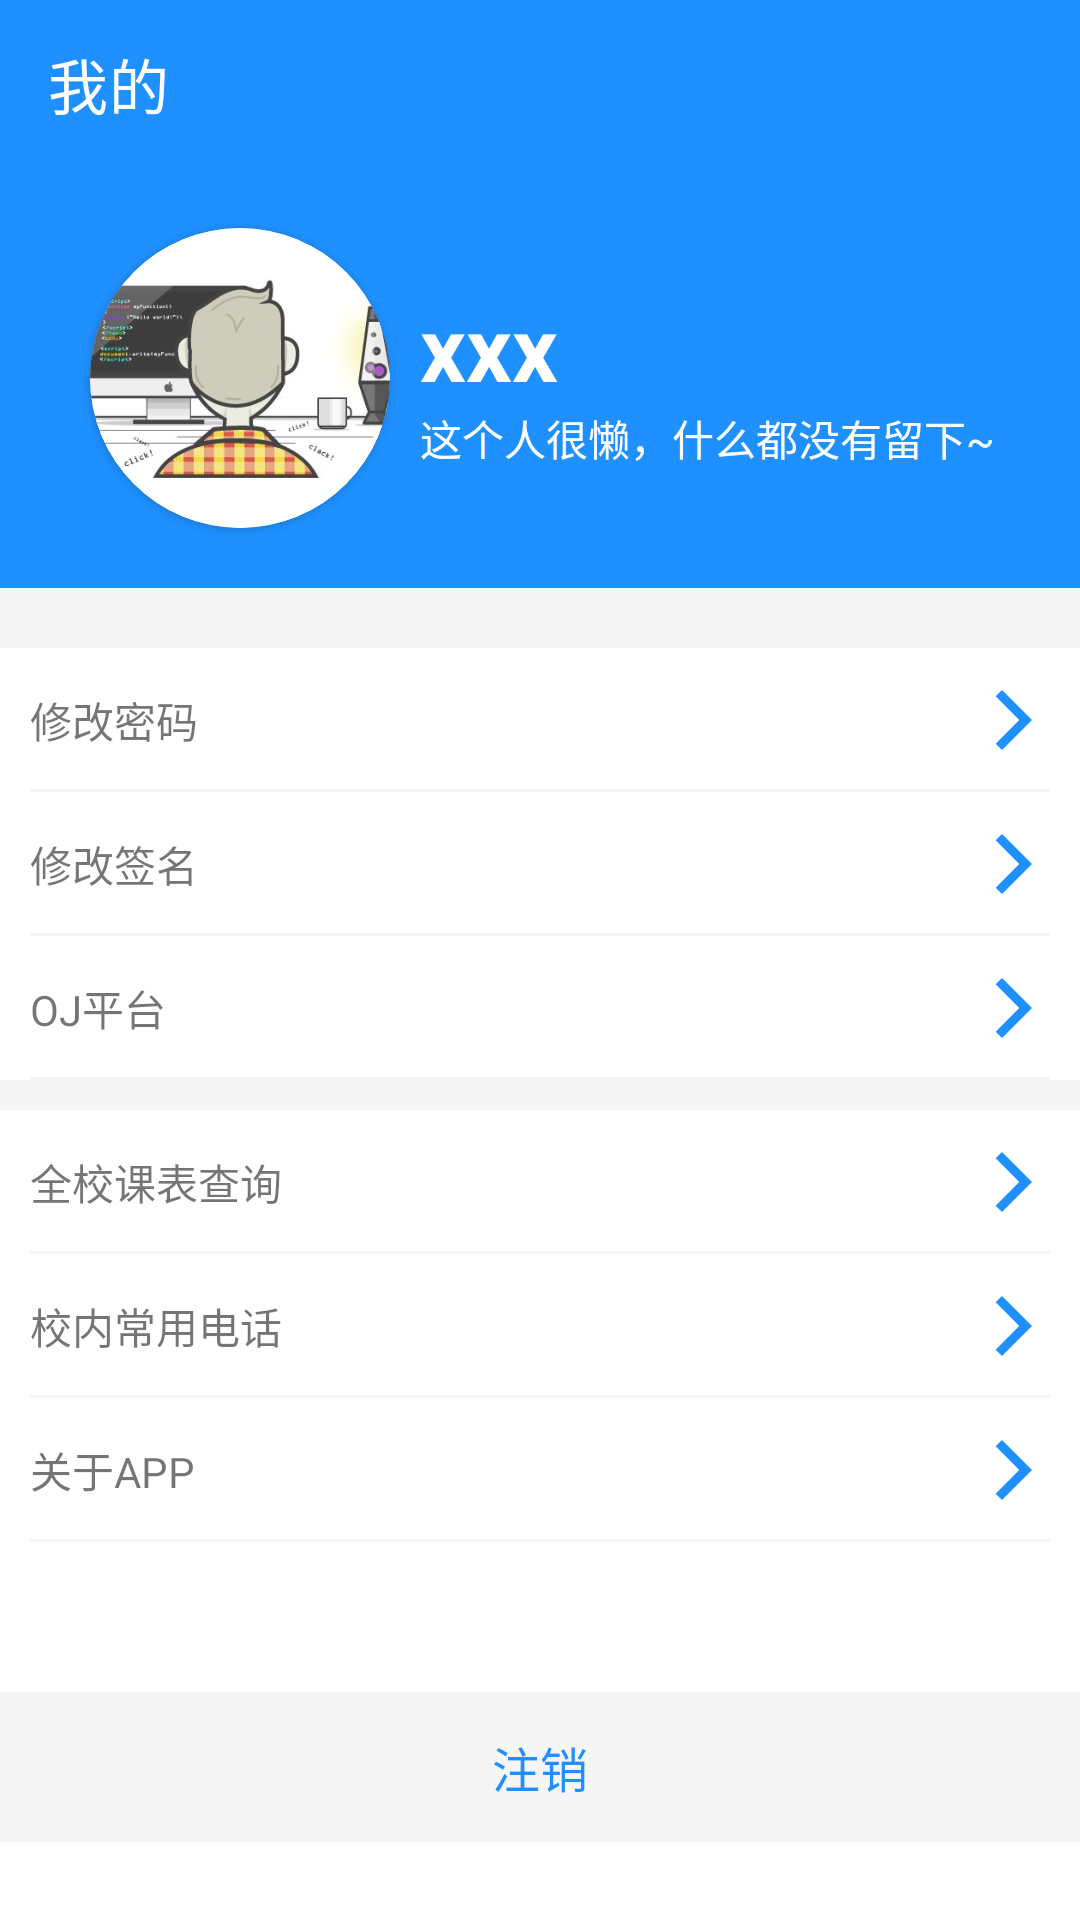

Where icons sit on this 1080px x 1920px app screen, as detection(x1, y1, x2, y2):
arrow forward: detection(995, 690, 1032, 750), detection(995, 834, 1032, 894), detection(995, 978, 1032, 1038), detection(995, 1152, 1032, 1212), detection(995, 1296, 1032, 1356), detection(995, 1440, 1032, 1500)
defaultphoto: detection(90, 228, 390, 528)
